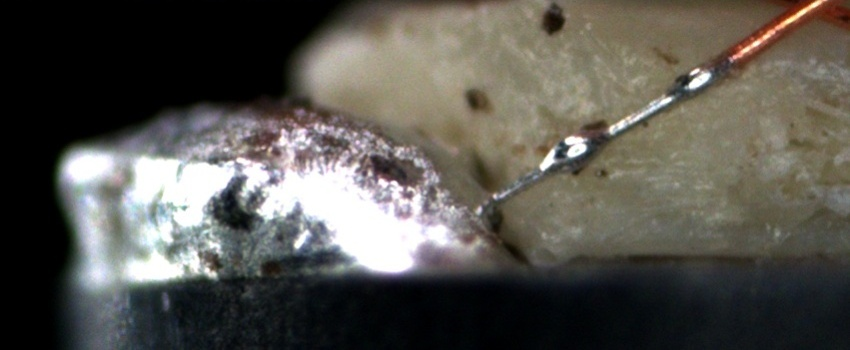CL: (776, 0, 846, 28)
DL: (753, 48, 849, 82)
TB: (543, 123, 604, 179)
TS: (490, 54, 733, 203)
TTCW: (487, 32, 758, 204)
